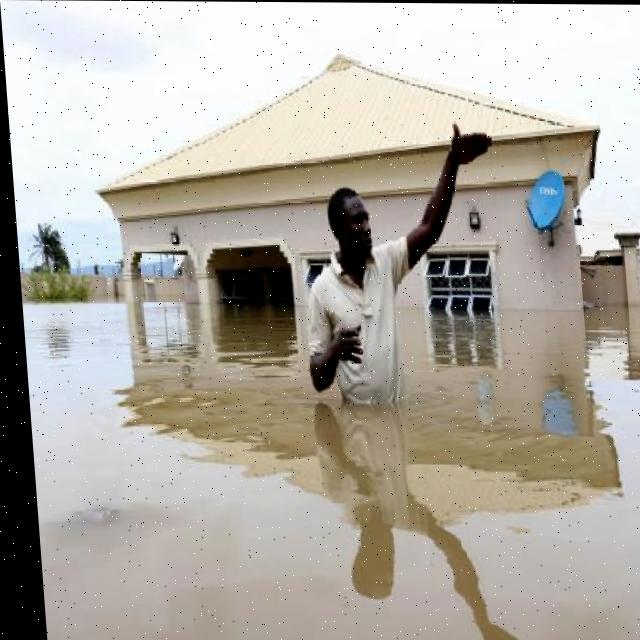civilian: (287, 113, 517, 427)
